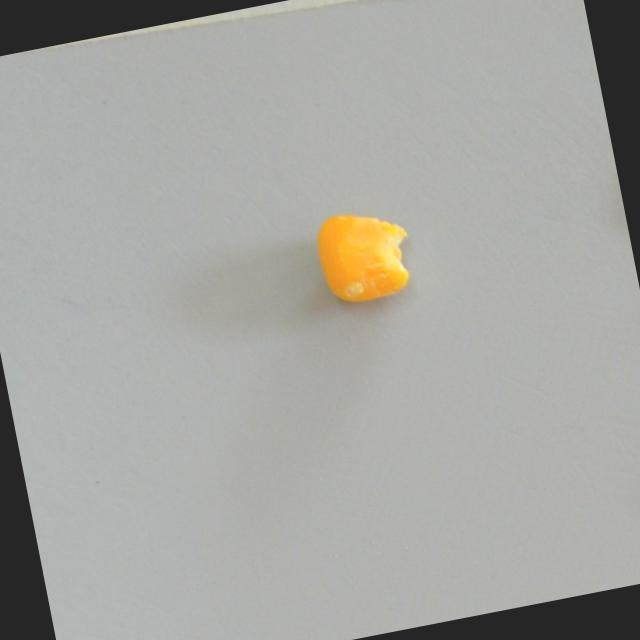no_desgerminado: (310, 202, 419, 307)
